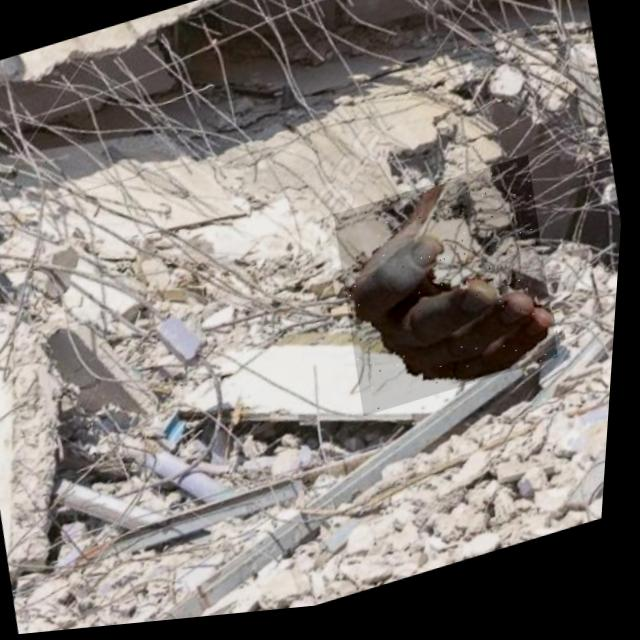Person in Rubble: (326, 162, 575, 427)
